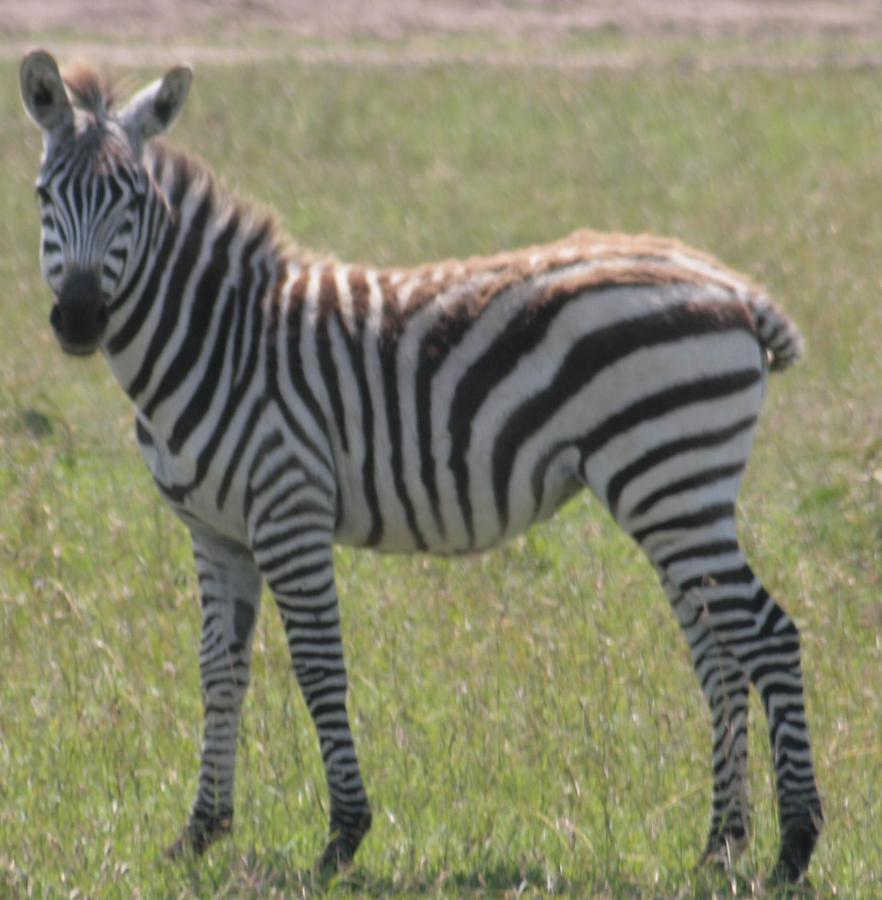zebra_plains: (157, 212, 797, 573)
